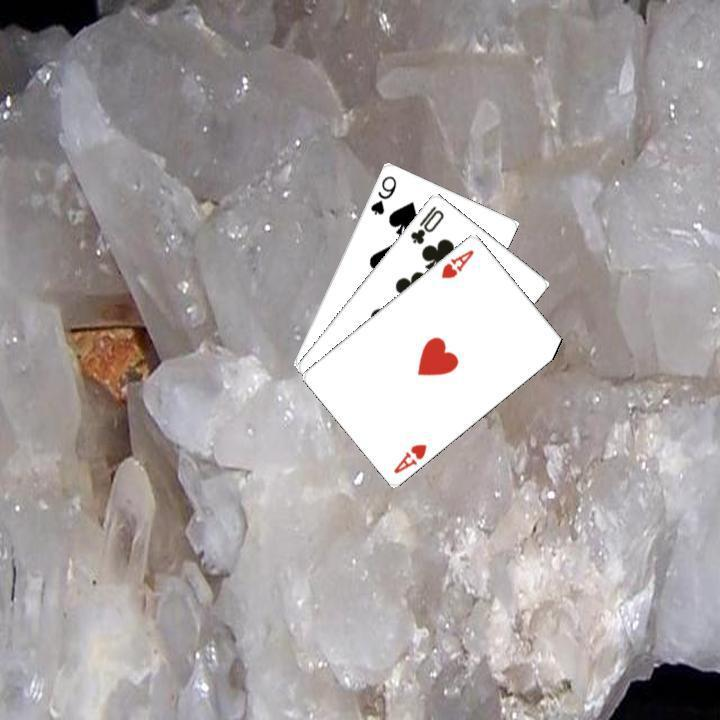10: (405, 201, 446, 246)
9: (366, 171, 398, 217)
A: (389, 439, 429, 475), (436, 245, 476, 280)
